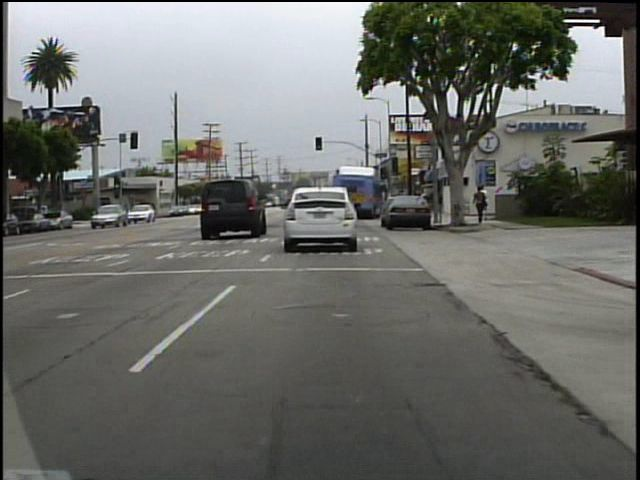person: (472, 183, 489, 226), (480, 182, 492, 223)
